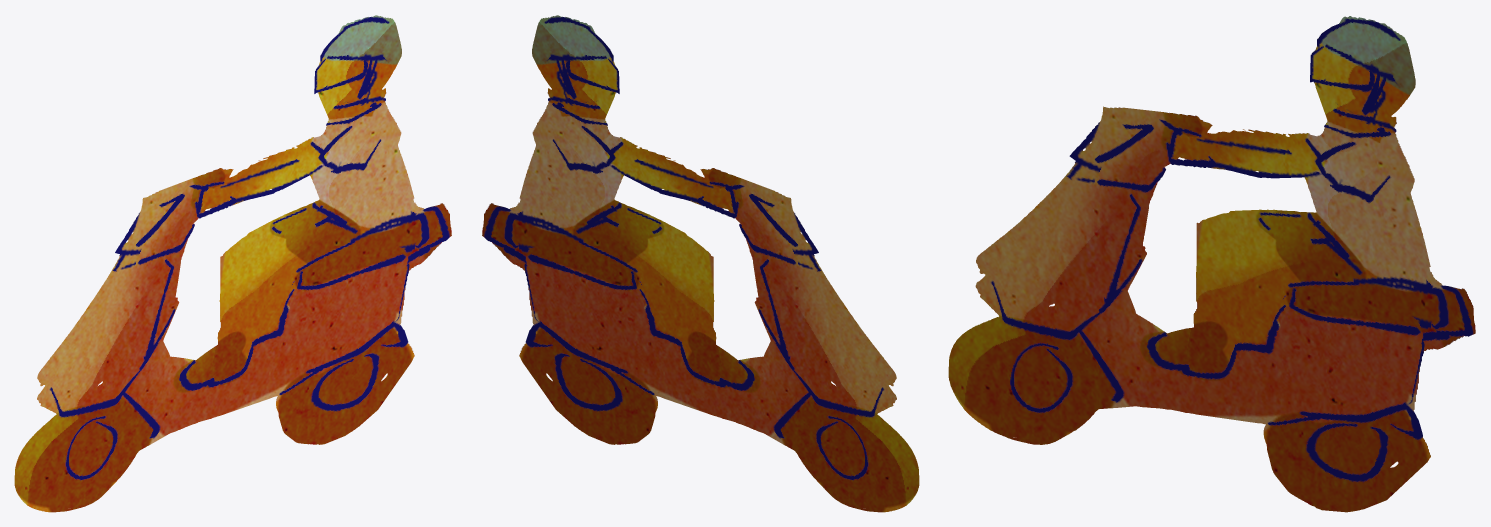
Rendered from people_06.fbx.
3 views of the same model, side by side, from view 1: azimuth 30°, elevation 25°; view 2: azimuth 150°, elevation 25°; view 3: azimuth 330°, elevation 25° (orthographic). The views are drawn at different scales.
Parts seen in each view (by area): view 1: people_06; view 2: people_06; view 3: people_06.
Boxes of the visible parts, <box> form: people_06: <box>14,15,451,512</box>; people_06: <box>482,15,919,512</box>; people_06: <box>948,16,1475,512</box>.
Size of the model in its own units: 101 by 92.9 by 1.11e-05.
Materials: 1 (1 with a texture image).
